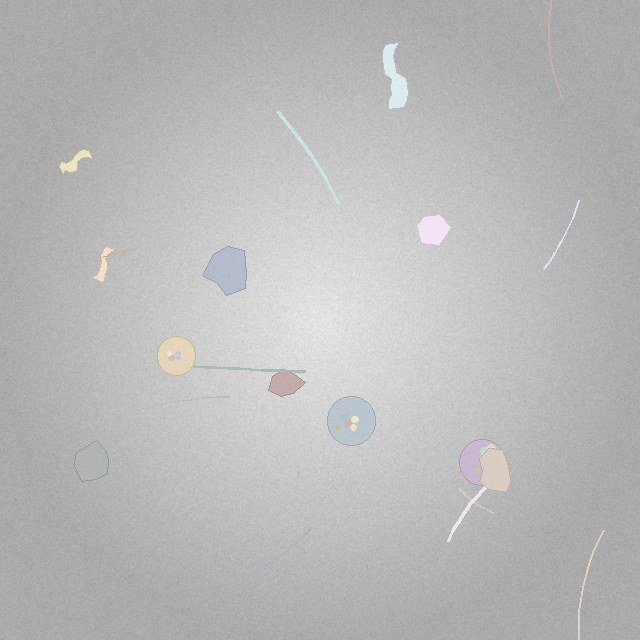fiber: (274, 108, 342, 208), (80, 394, 232, 432), (227, 526, 314, 590), (576, 528, 606, 639), (541, 198, 582, 272), (445, 484, 489, 545), (169, 362, 309, 375), (546, 0, 564, 100), (63, 248, 137, 267), (455, 484, 497, 515), (275, 426, 313, 435)
film: (382, 43, 409, 109), (91, 247, 114, 283), (60, 150, 93, 175)
foam: (327, 397, 376, 445), (460, 439, 506, 485), (157, 337, 195, 375)
fragment: (202, 246, 246, 295), (479, 449, 511, 492), (75, 441, 108, 481), (416, 215, 451, 245), (268, 370, 305, 397)
